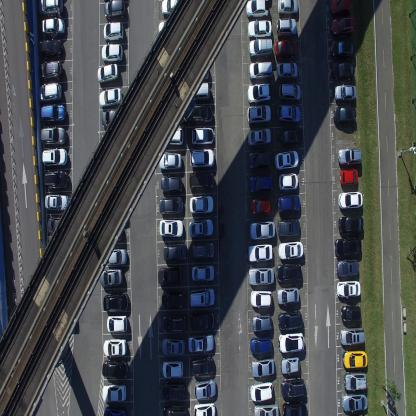car: (277, 331, 305, 353), (281, 376, 305, 401), (101, 358, 129, 379), (248, 219, 276, 240), (334, 237, 362, 258), (188, 170, 214, 192), (277, 309, 303, 331), (189, 286, 215, 308), (330, 38, 356, 60), (246, 242, 273, 263), (42, 170, 70, 190), (160, 379, 185, 401), (42, 146, 67, 168), (338, 214, 363, 236), (249, 172, 274, 194), (274, 149, 299, 171), (247, 126, 272, 148), (276, 103, 301, 125), (248, 60, 273, 82), (188, 217, 214, 238), (246, 82, 272, 103), (187, 332, 214, 352), (340, 392, 367, 412), (40, 125, 67, 145), (40, 103, 67, 123), (99, 86, 122, 109), (247, 103, 271, 125), (248, 37, 272, 59), (189, 193, 214, 214), (37, 82, 62, 103), (38, 59, 63, 80), (158, 126, 183, 147), (342, 350, 368, 370), (277, 240, 303, 260), (189, 310, 215, 330), (162, 242, 188, 262), (158, 218, 184, 238), (248, 266, 274, 286), (102, 292, 128, 312), (38, 38, 64, 58), (277, 193, 300, 215), (190, 355, 214, 376), (251, 357, 275, 378), (99, 267, 123, 288), (248, 150, 272, 171), (279, 126, 303, 147), (274, 38, 298, 59), (331, 61, 355, 82), (249, 381, 274, 401), (159, 194, 184, 214), (102, 336, 127, 356), (41, 16, 66, 36), (101, 109, 126, 129), (338, 190, 363, 210), (330, 16, 355, 36), (189, 149, 215, 168), (276, 264, 302, 283), (44, 192, 70, 211), (194, 378, 216, 400), (97, 63, 119, 85), (343, 371, 367, 391), (161, 336, 185, 356), (276, 285, 300, 305), (103, 247, 128, 266), (247, 19, 272, 38), (245, 0, 270, 19), (161, 0, 187, 18), (103, 20, 124, 42), (188, 81, 210, 102), (334, 105, 356, 126), (276, 61, 298, 82), (159, 151, 182, 171), (191, 126, 214, 146), (191, 262, 214, 282), (191, 241, 214, 261), (104, 0, 127, 20), (338, 146, 361, 166), (278, 82, 301, 102), (160, 289, 184, 308), (162, 314, 186, 333), (157, 266, 181, 285), (102, 383, 126, 402), (277, 218, 301, 237), (340, 328, 365, 346), (280, 354, 300, 376), (250, 335, 272, 355), (250, 288, 272, 308), (106, 314, 128, 334), (101, 42, 123, 62), (190, 104, 212, 124), (160, 174, 183, 193), (336, 280, 360, 298), (46, 216, 70, 234), (157, 20, 181, 38), (252, 312, 272, 333), (250, 197, 271, 217), (276, 16, 297, 36), (336, 259, 358, 278), (340, 304, 362, 323), (37, 0, 63, 16), (282, 400, 307, 416), (161, 359, 183, 377), (339, 168, 359, 187), (278, 172, 298, 191), (277, 0, 300, 15), (192, 402, 216, 416), (330, 0, 352, 15), (254, 404, 280, 415), (102, 404, 127, 415), (162, 404, 186, 415)
